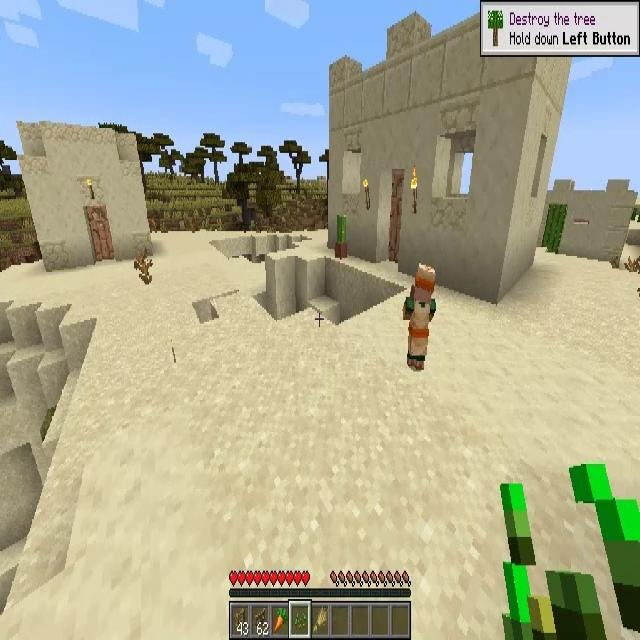people: (402, 262, 436, 371)
